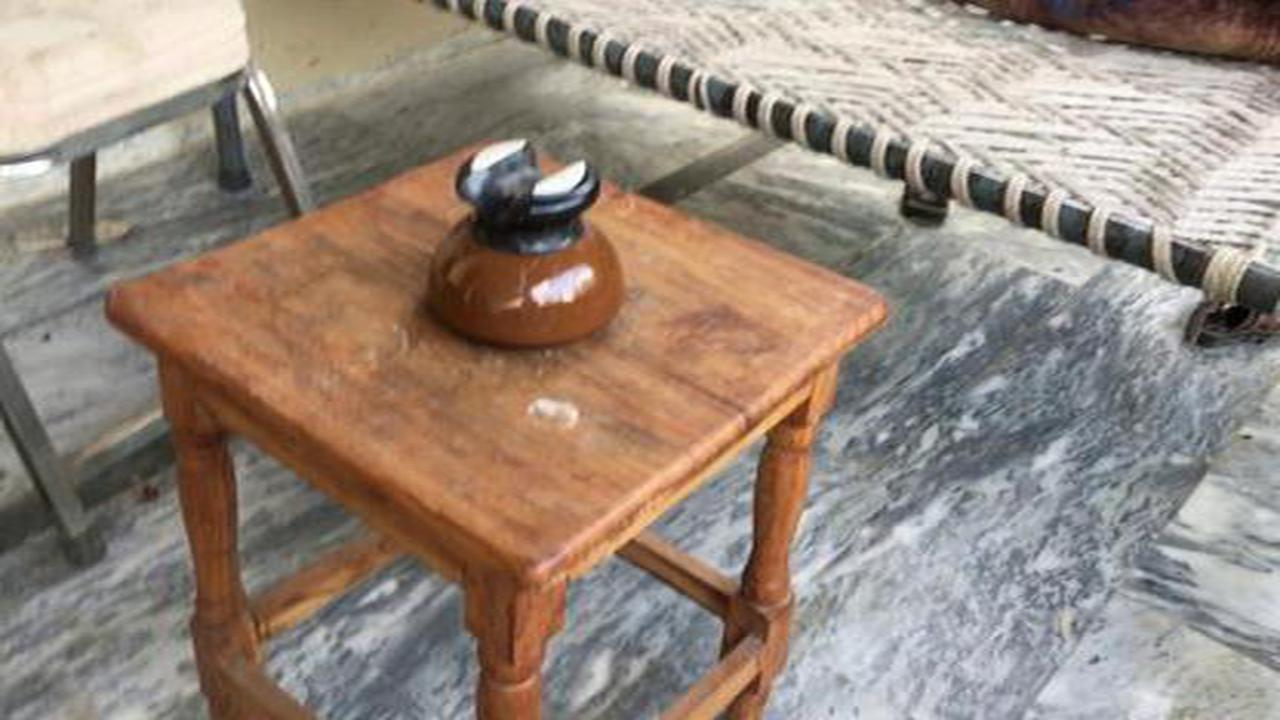insulator_pin: (404, 120, 644, 364)
